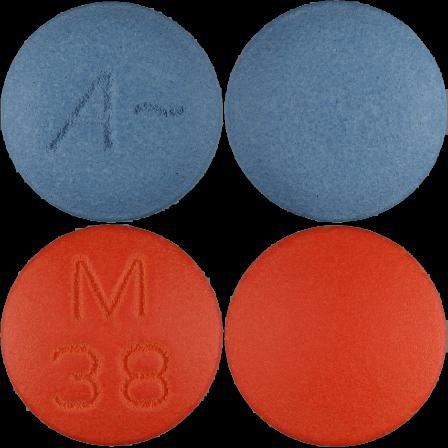16590-436: (0, 0, 224, 224)
